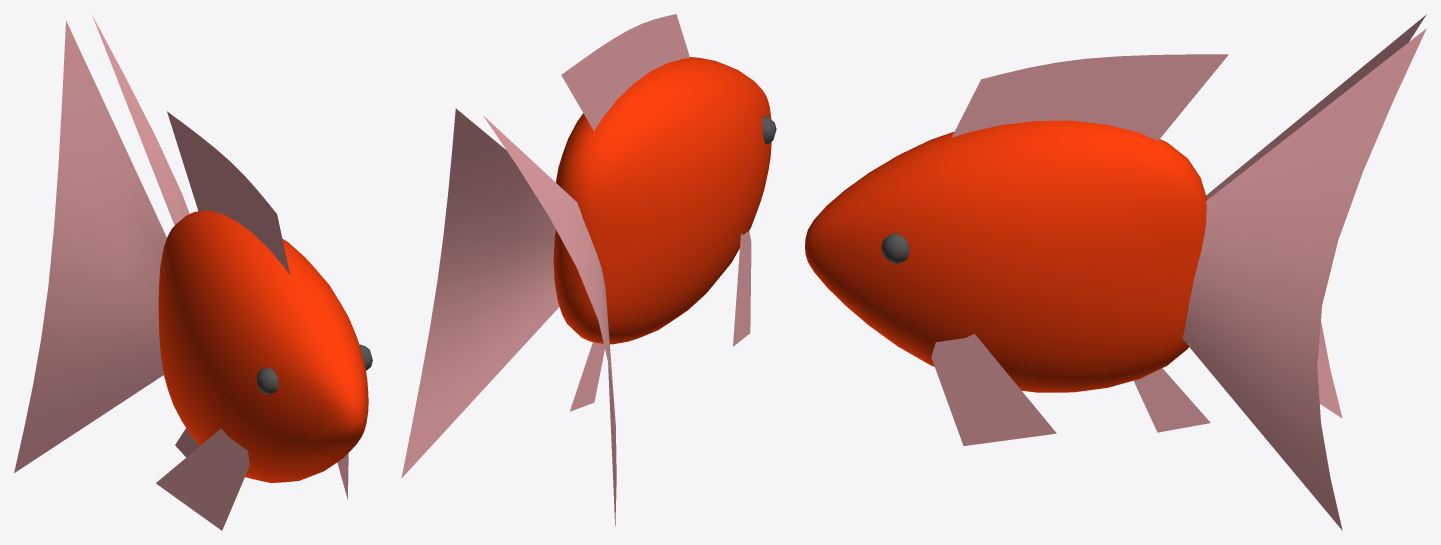
File: kingyo01.glb
3 renders of one model, left to right at view 1: azimuth 30°, elevation 25°; view 2: azimuth 150°, elevation 25°; view 3: azimuth 270°, elevation 25°, orthographic. The views are drawn at different scales.
Visible parts, largest first — view 1: body, obj2, obj3, obj4, eye; view 2: body, obj2, obj3, obj4, obj5; view 3: body, obj2, obj3, obj4, obj5.
Boxes of the visible parts, x1,y1,x2,y2 form: body: [158, 210, 368, 483]; obj2: [14, 15, 189, 472]; obj3: [167, 111, 289, 274]; obj4: [156, 428, 348, 530]; eye: [256, 344, 372, 394]; body: [553, 57, 771, 344]; obj2: [401, 108, 616, 526]; obj3: [561, 14, 689, 131]; obj4: [733, 231, 751, 346]; obj5: [570, 342, 604, 411]; body: [805, 120, 1207, 392]; obj2: [1182, 14, 1426, 530]; obj3: [952, 54, 1228, 140]; obj4: [931, 334, 1056, 445]; obj5: [1134, 368, 1210, 432].
Bounding box in the file's own units: 0.131 × 0.247 × 0.3068.
